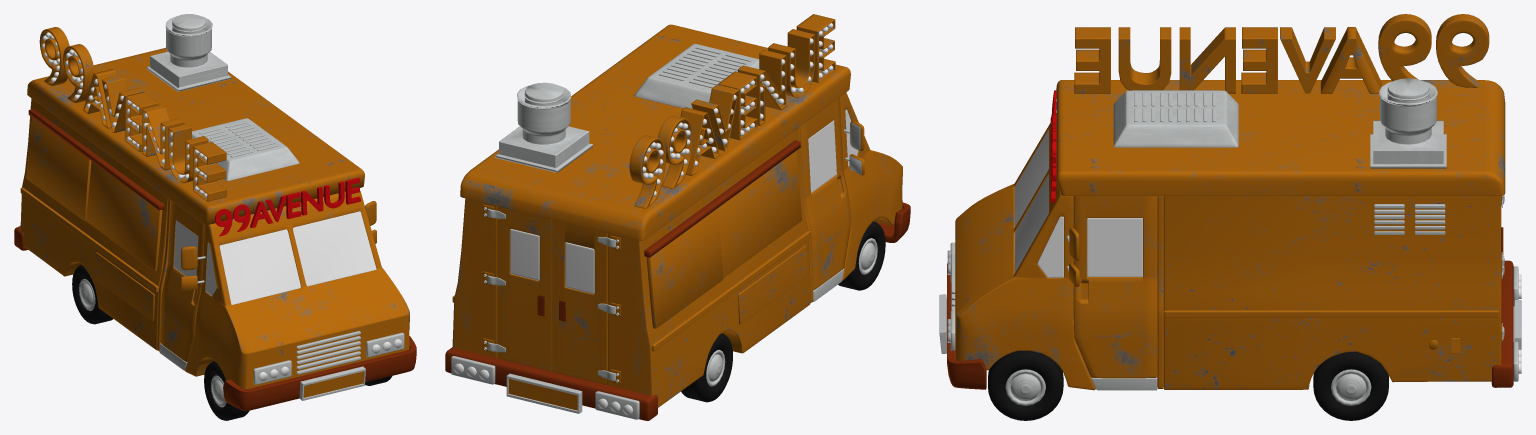
Rendered from FoodTruckHY.fbx.
3 views of the same model, side by side, from view 1: azimuth 30°, elevation 25°; view 2: azimuth 150°, elevation 25°; view 3: azimuth 270°, elevation 25° (orthographic). The views are drawn at different scales.
Parts seen in each view (by area): view 1: Front, Top, SideRogo, Side, FrontWindow, LeftVent, RightWindow2, RightWindow1, SideDoor, BackBottom, FrontRogo, Tire (+14 smaller); view 2: Top, Side, SideRogo, LeftVent, BackDoorL, BackDoorR, RightWindow2, RightWindow1, SideDoor, Front, BackBottom, BackDoorWindow (+13 smaller); view 3: Side, Top, SideRogo, Front, LeftVent, SideDoor, Tire, SideDoorWindow, BackBottom, FrontWindow, SideGuid2, Wheels (+6 smaller).
Part boxes in pixels (x1,y1,x2,y2): Front: [185, 190, 409, 389]; Top: [27, 47, 364, 225]; SideRogo: [39, 27, 226, 201]; Side: [20, 98, 168, 350]; FrontWindow: [219, 211, 376, 304]; LeftVent: [146, 14, 299, 283]; RightWindow2: [86, 161, 162, 271]; RightWindow1: [26, 117, 91, 220]; SideDoor: [160, 200, 204, 362]; BackBottom: [14, 226, 416, 411]; FrontRogo: [215, 177, 360, 236]; Tire: [72, 264, 392, 420]; Top: [460, 24, 850, 240]; Side: [452, 128, 810, 407]; SideRogo: [629, 14, 835, 208]; LeftVent: [484, 43, 849, 382]; BackDoorL: [497, 206, 552, 371]; BackDoorR: [552, 219, 607, 384]; RightWindow2: [717, 150, 802, 277]; RightWindow1: [646, 208, 723, 328]; SideDoor: [800, 98, 850, 290]; Front: [839, 92, 902, 280]; BackBottom: [445, 202, 910, 420]; BackDoorWindow: [510, 229, 594, 293]; Side: [1164, 196, 1501, 389]; Top: [1056, 80, 1505, 195]; SideRogo: [1074, 14, 1489, 93]; Front: [955, 113, 1095, 390]; LeftVent: [1067, 78, 1504, 340]; SideDoor: [1073, 196, 1157, 378]; Tire: [988, 351, 1388, 420]; SideDoorWindow: [1087, 218, 1142, 276]; BackBottom: [947, 260, 1513, 389]; FrontWindow: [1014, 130, 1048, 273]; SideGuid2: [1163, 310, 1498, 317]; Wheels: [1005, 369, 1371, 405].
Bounding box in the file's own units: 236 × 295 × 492.
